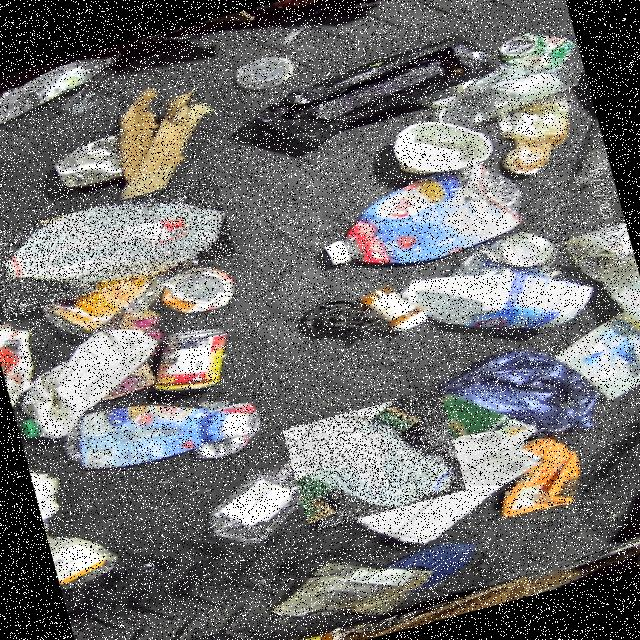milk-jug: (0, 174, 236, 317), (282, 386, 467, 532)
